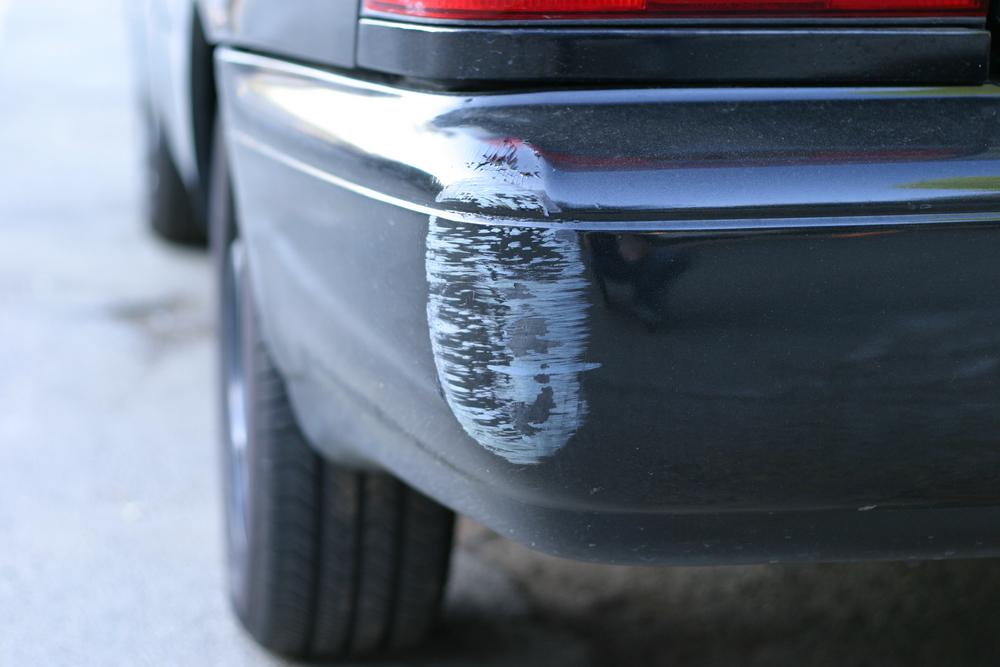scratch: (422, 136, 601, 467)
